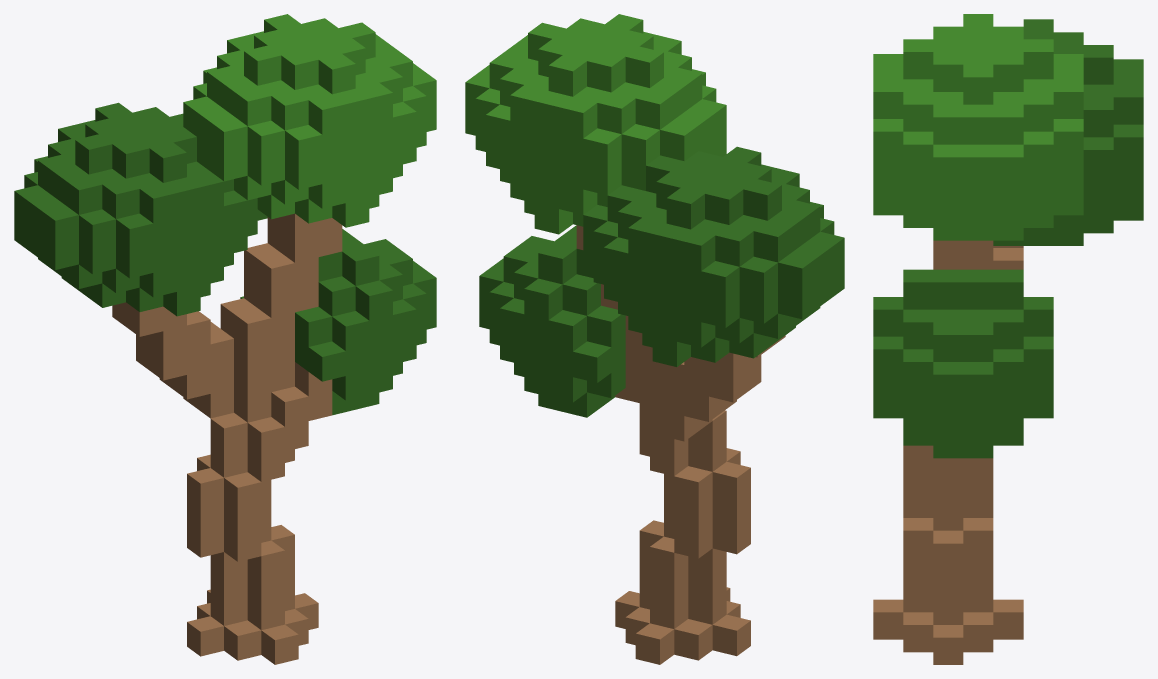
The model's file is cubeland1-35.obj.
3 views of the same model, side by side, from view 1: azimuth 30°, elevation 25°; view 2: azimuth 150°, elevation 25°; view 3: azimuth 270°, elevation 25° (orthographic). The views are drawn at different scales.
Size of the model in its own units: 1.5 by 2.3 by 0.9.
1 material, 1 textured.
